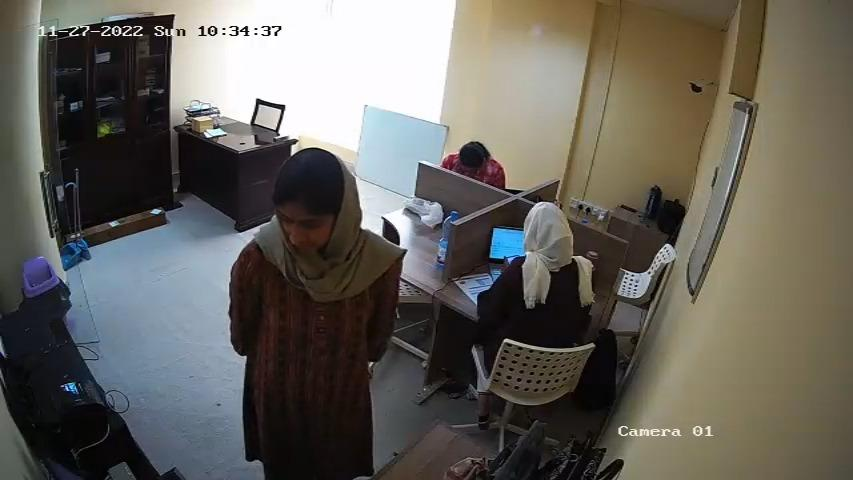no_apron: (245, 257, 372, 453)
